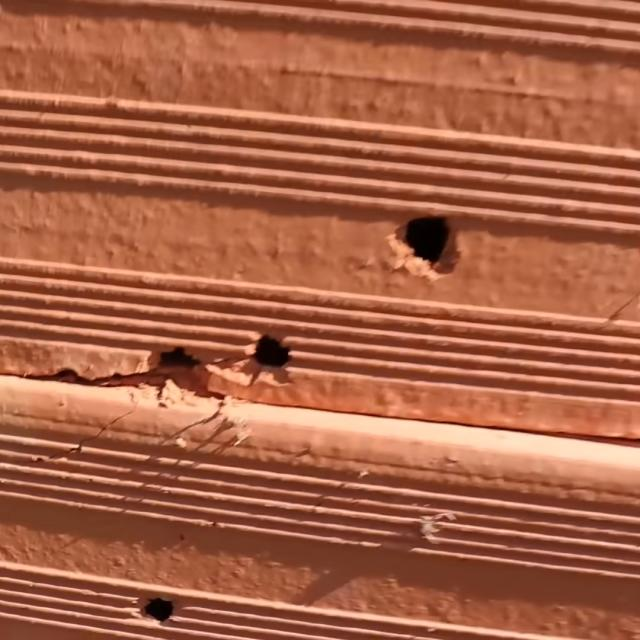bullets: (392, 206, 462, 282), (249, 322, 296, 382), (141, 592, 176, 626)
